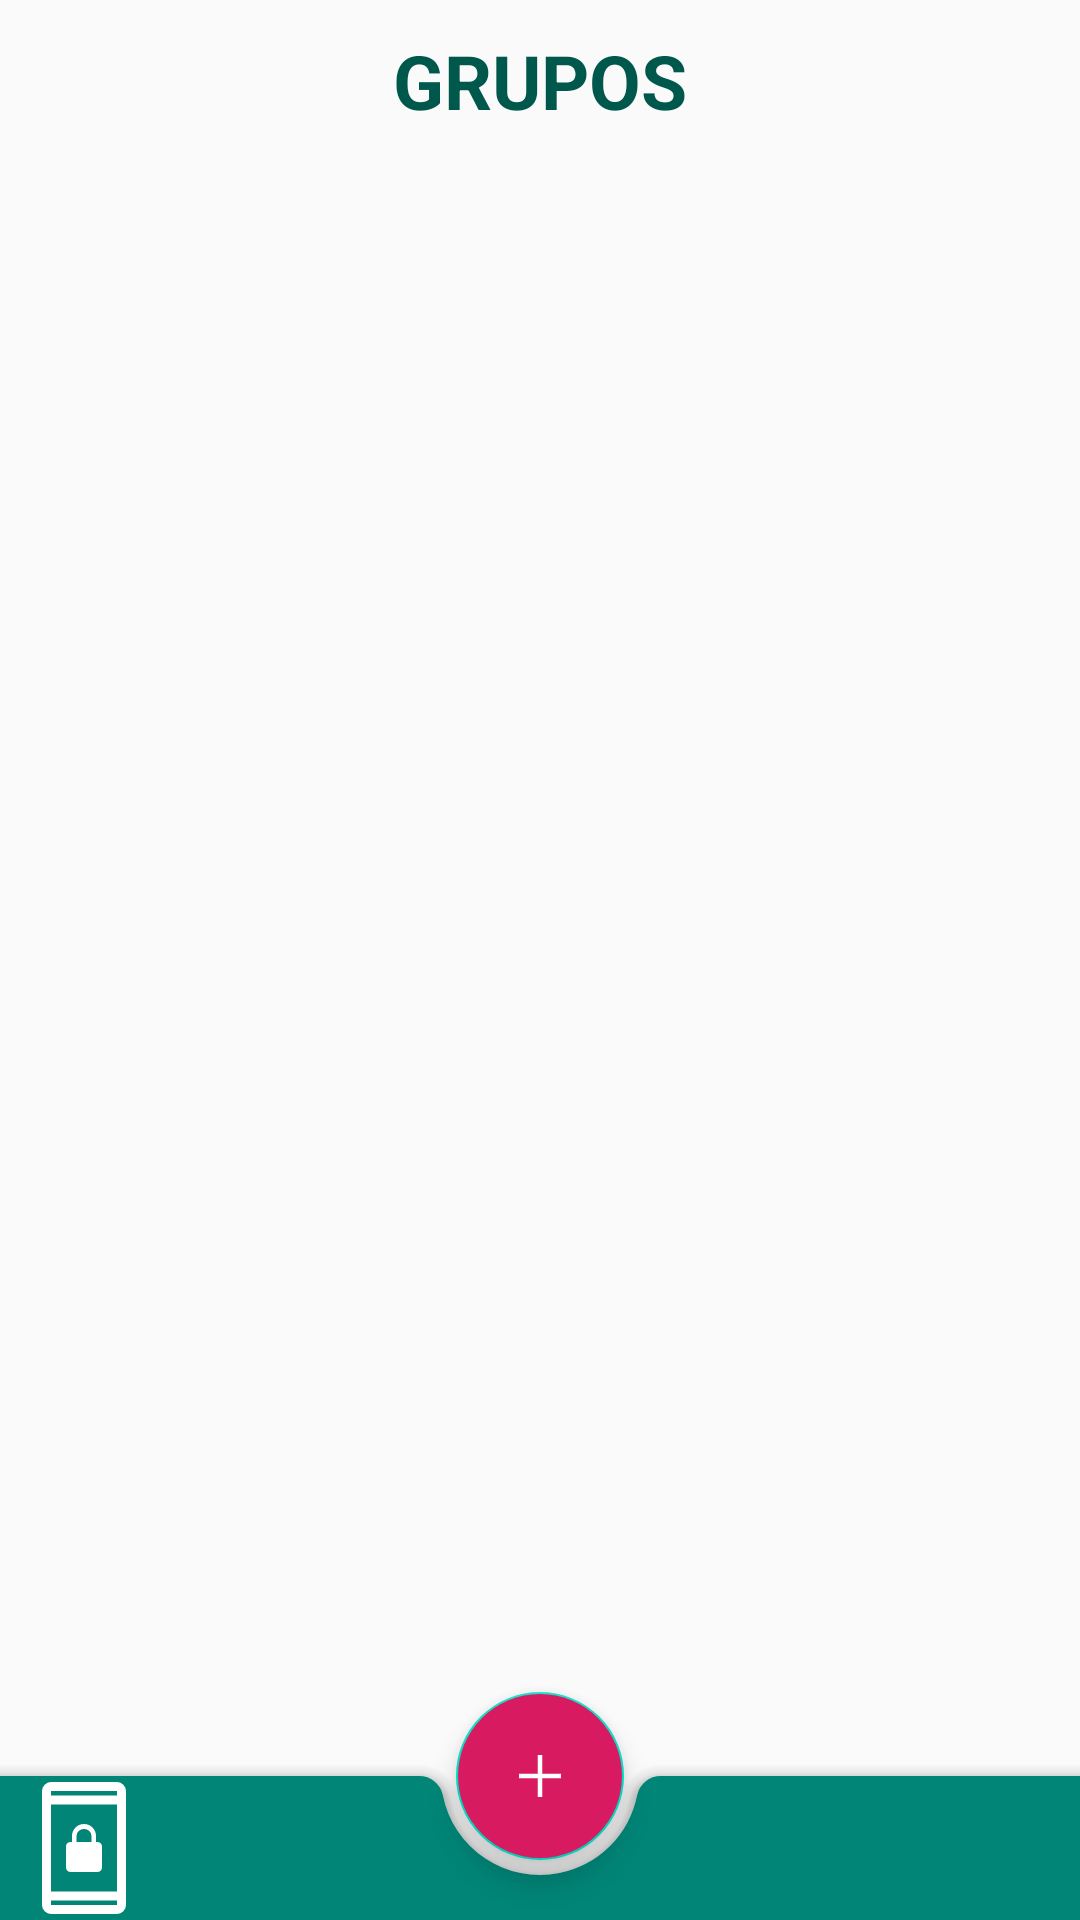

Where to tap for icons on this 1080×1920 app screen, as (x=x, y=y):
add: (x=540, y=1776)
